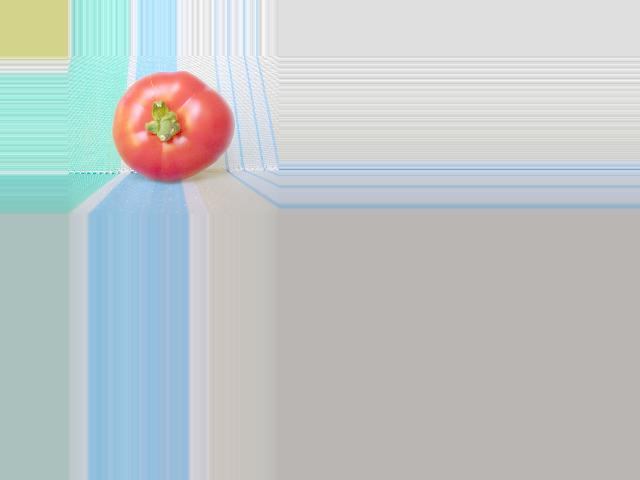tomato: (112, 71, 233, 182)
